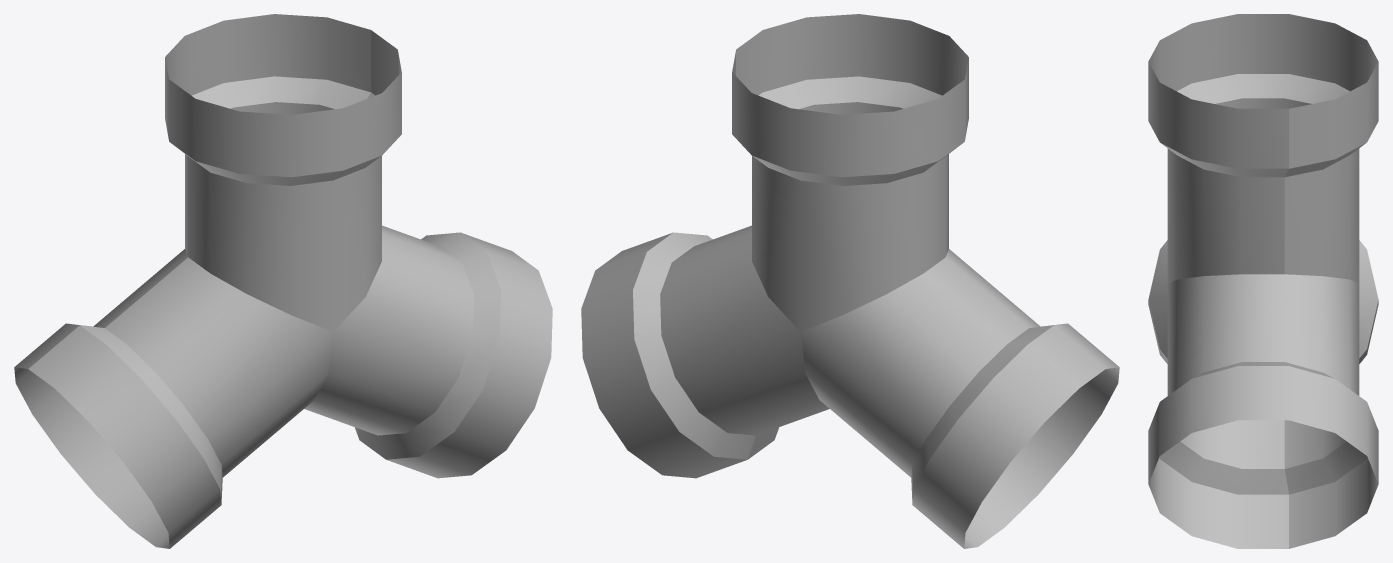
File: KF_SM_S3way.fbx
The picture shows the model from 3 angles, left to right: view 1: azimuth 30°, elevation 25°; view 2: azimuth 150°, elevation 25°; view 3: azimuth 270°, elevation 25°; orthographic projection. The views are drawn at different scales.
Visible parts, largest first — view 1: KF_SM_S3way; view 2: KF_SM_S3way; view 3: KF_SM_S3way.
Part boxes in pixels (left/top/right/bottom): KF_SM_S3way: left=14, top=14, right=552, bottom=548; KF_SM_S3way: left=581, top=14, right=1119, bottom=548; KF_SM_S3way: left=1148, top=14, right=1378, bottom=548.
Size of the model in its own units: 684 by 593 by 293.
